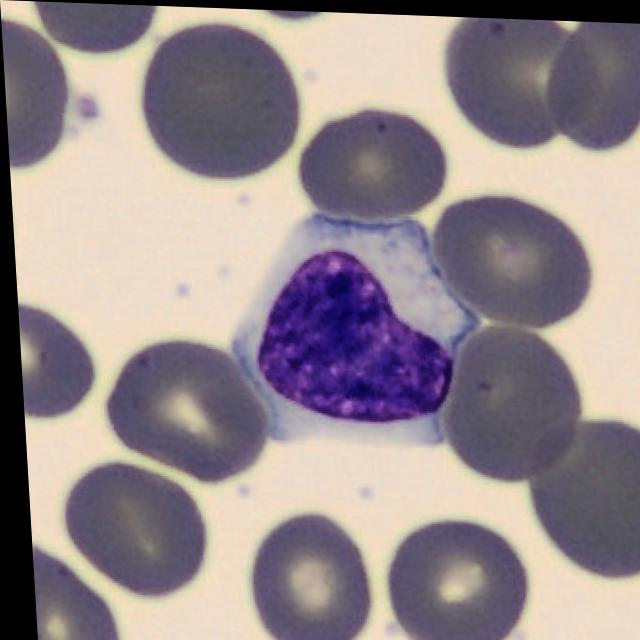Linfocito atipico: (228, 214, 471, 441)
